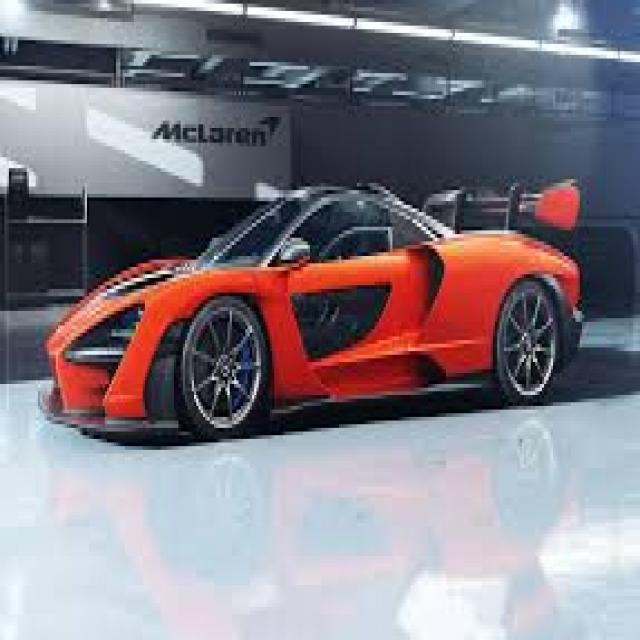Car: (35, 149, 588, 449)
